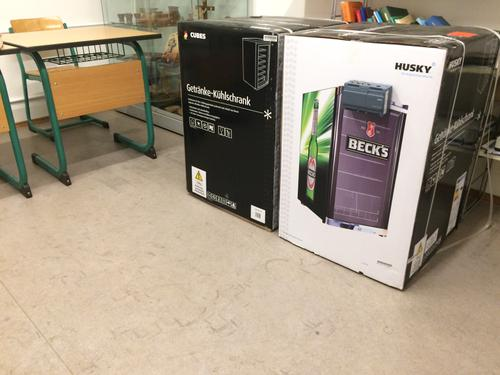iot2000: (342, 80, 394, 119)
